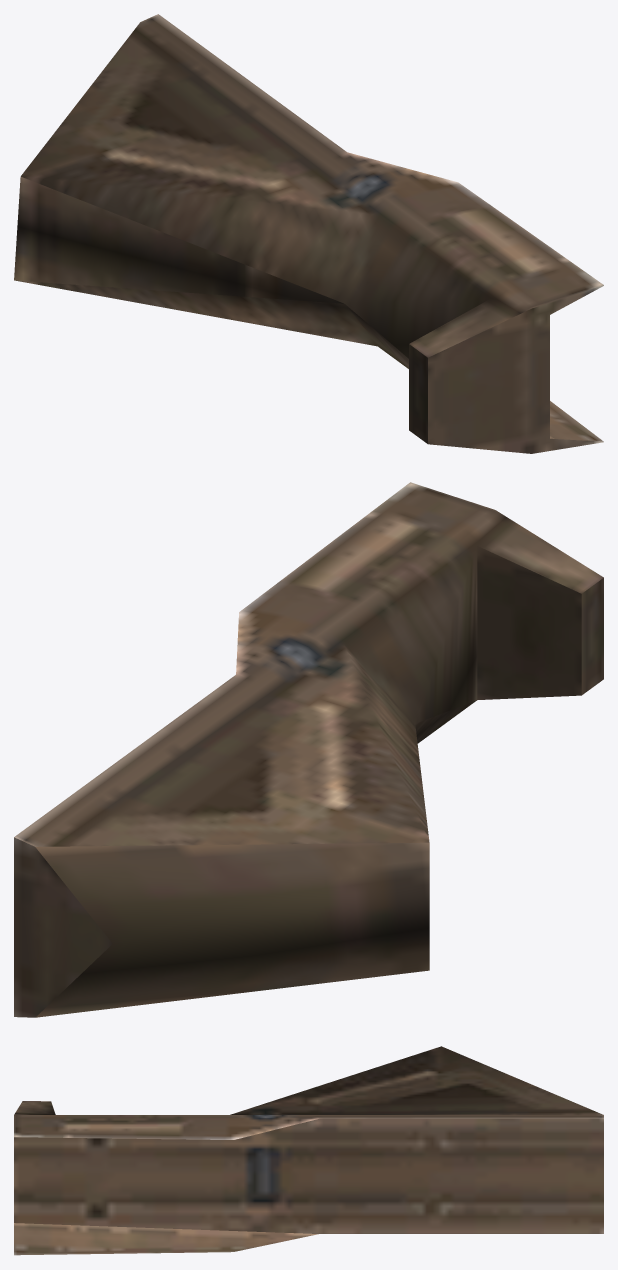
File: Pickup_WeaponQt01.glb
3 renders of one model, top to bottom at view 1: azimuth 30°, elevation 25°; view 2: azimuth 150°, elevation 25°; view 3: azimuth 270°, elevation 25°, orthographic. The views are drawn at different scales.
Visible parts, largest first — view 1: pk_weapon_qt01; view 2: pk_weapon_qt01; view 3: pk_weapon_qt01.
Boxes of the visible parts, bbox=[...] form: pk_weapon_qt01: bbox=[14, 14, 603, 453]; pk_weapon_qt01: bbox=[14, 482, 603, 1017]; pk_weapon_qt01: bbox=[14, 1046, 603, 1255].
Bounding box in the file's own units: 0.1517 × 0.0751 × 0.3391.
1 material, 1 textured.
